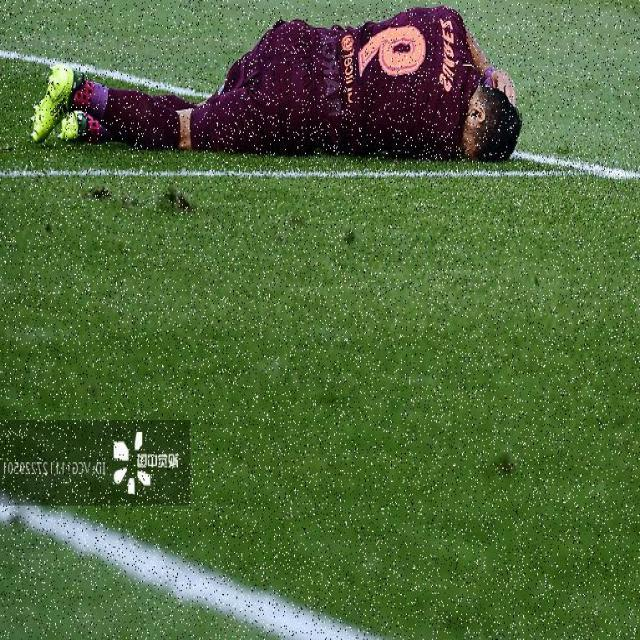fall: (38, 2, 522, 166)
